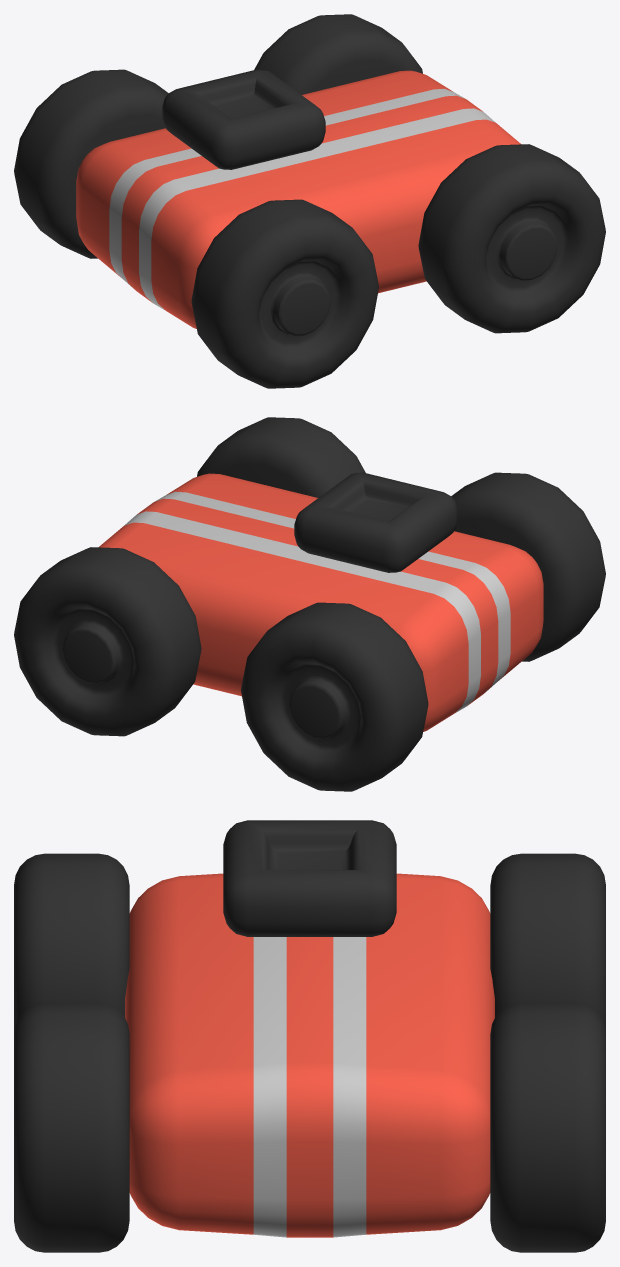
3 renders of one model, top to bottom at view 1: azimuth 30°, elevation 25°; view 2: azimuth 150°, elevation 25°; view 3: azimuth 270°, elevation 25°, orthographic. The views are drawn at different scales.
Visible parts, largest first — view 1: 小车; view 2: 小车; view 3: 小车.
Part boxes in pixels (<box>): 小车: <box>14,14,605,388</box>; 小车: <box>14,417,605,791</box>; 小车: <box>14,820,605,1252</box>.
Size of the model in its own units: 2.16 by 1.09 by 2.13.
